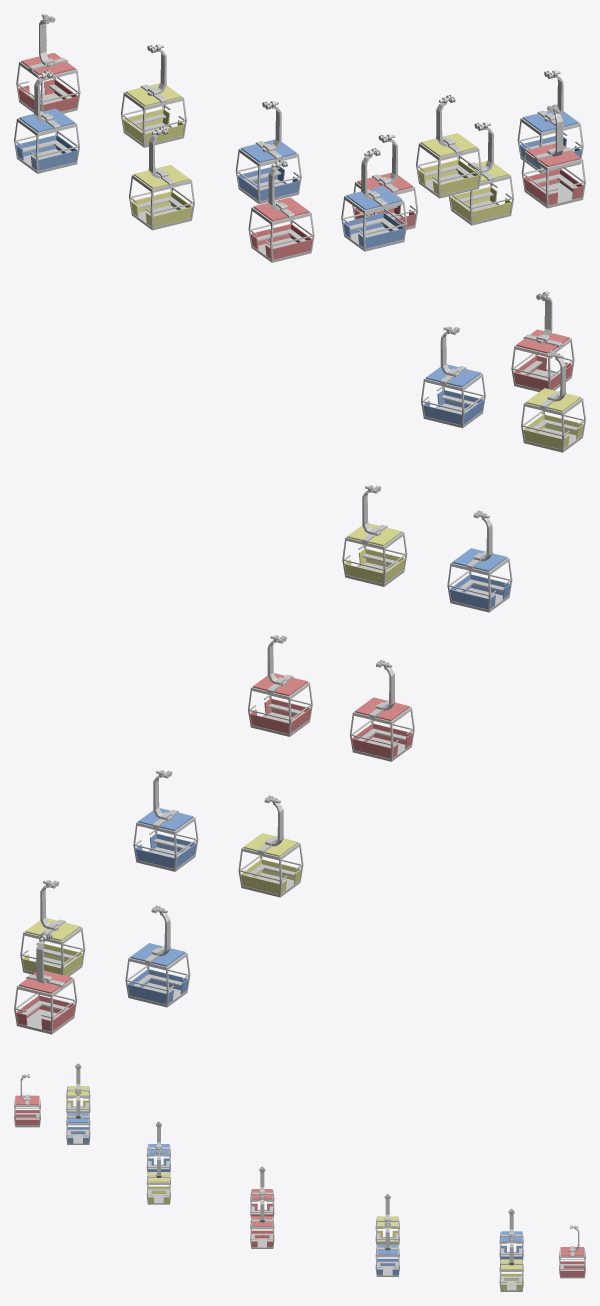
The model's file is cable.interactive.fbx.
3 views of the same model, one above another, from view 1: azimuth 30°, elevation 25°; view 2: azimuth 150°, elevation 25°; view 3: azimuth 270°, elevation 25° (orthographic). The views are drawn at different scales.
Parts seen in each view (by area): view 1: body4_10, body4_4, body4, body4_5, body4_2, body4_3, body4_7, body4_8, body4_12, body4_6, body6_3, body6 (+31 smaller); view 2: body4_10, body4_8, body4_11, body4_9, body4_4, body4_2, body4_5, body4, body4_3; view 3: body4_12.
Boxes of the visible parts, x1,y1,x2,y2 form: body4_10: (450,186,511,222); body4_4: (131,191,192,227); body4: (418,159,479,195); body4_5: (16,135,77,170); body4_2: (343,212,404,248); body4_3: (250,223,312,259); body4_7: (123,108,184,144); body4_8: (237,166,299,200); body4_12: (523,168,583,205); body4_6: (18,79,77,111); body6_3: (248,207,314,262); body6: (416,142,481,197); body4_10: (344,548,405,583); body4_8: (135,833,196,868); body4_11: (423,389,483,424); body4_9: (250,698,310,733); body4_4: (241,859,301,894); body4_2: (449,574,510,609); body4_5: (127,969,188,1004); body4: (523,414,583,449); body4_3: (352,723,412,758); body4_12: (15,1110,39,1125).
Bounding box in the file's own units: 1167 × 2745 × 7134.
